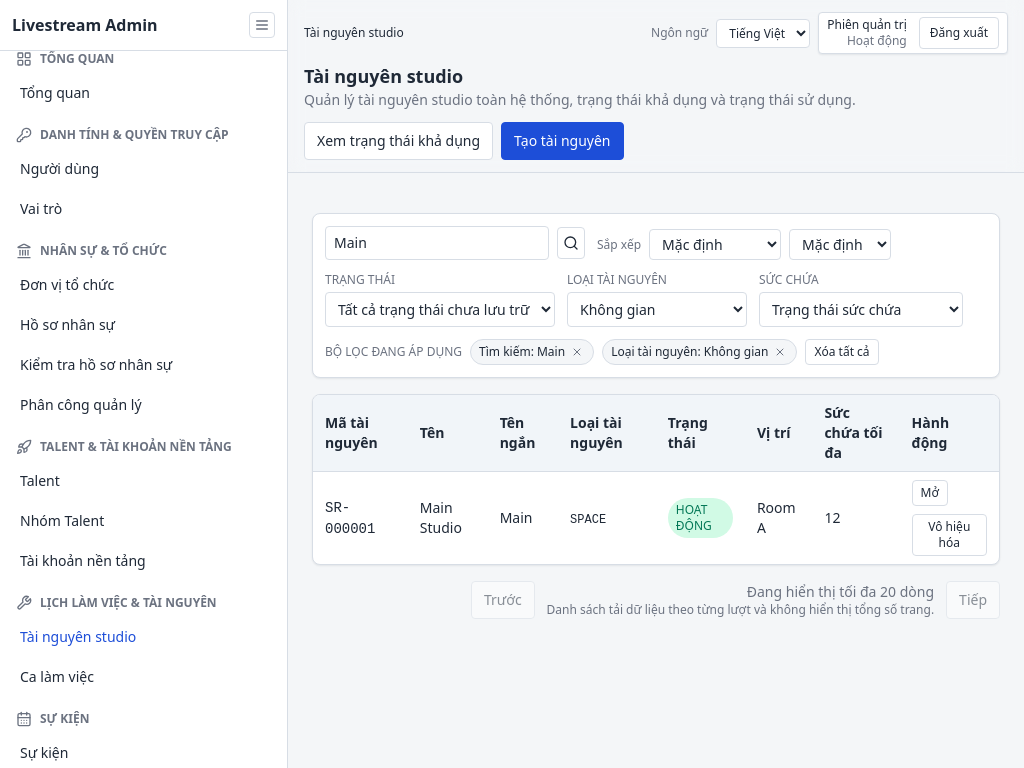
studio-resource wave 5 surfaces › renders query-driven list rows with applied chips and bounded cursor disclosure
Check: the heading "Tài nguyên studio" is shown, box x1=304 y1=64 x2=463 y2=88
Check: the text "SR-000001" is shown, box x1=325 y1=500 x2=375 y2=537
Click the button named "Xóa bộ lọc: Tìm kiếm". click: (577, 352)
box: x1=569 y1=344 x2=585 y2=360
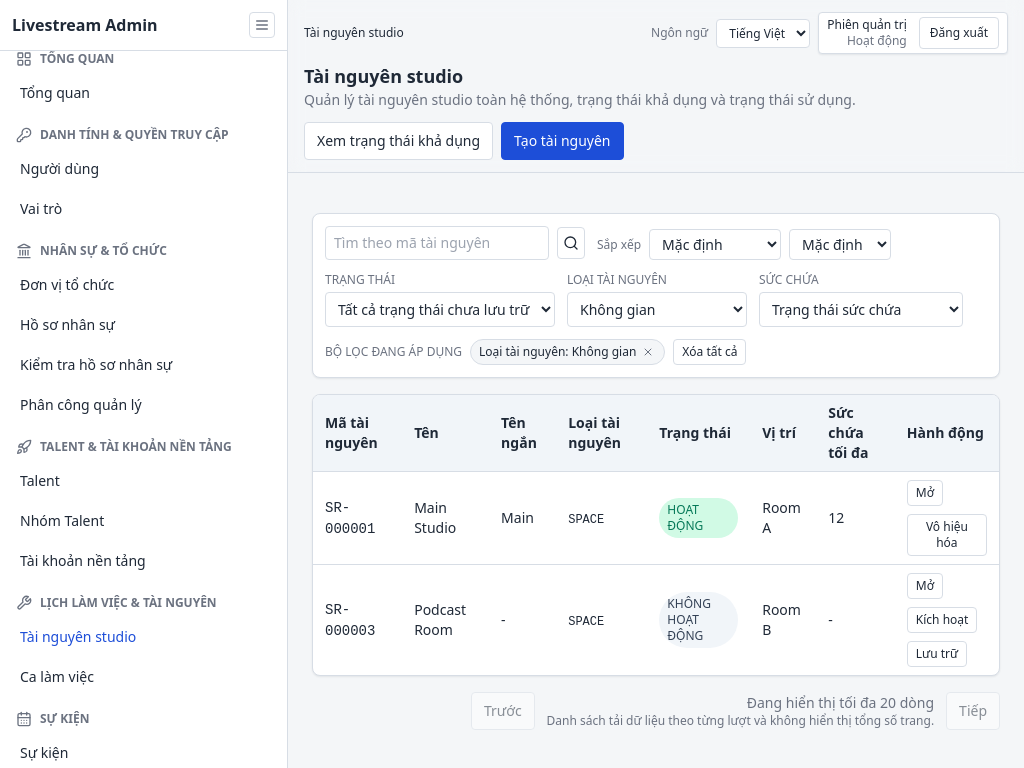
Click the button "Xóa tất cả". click: (710, 352)
box: x1=673 y1=339 x2=746 y2=365
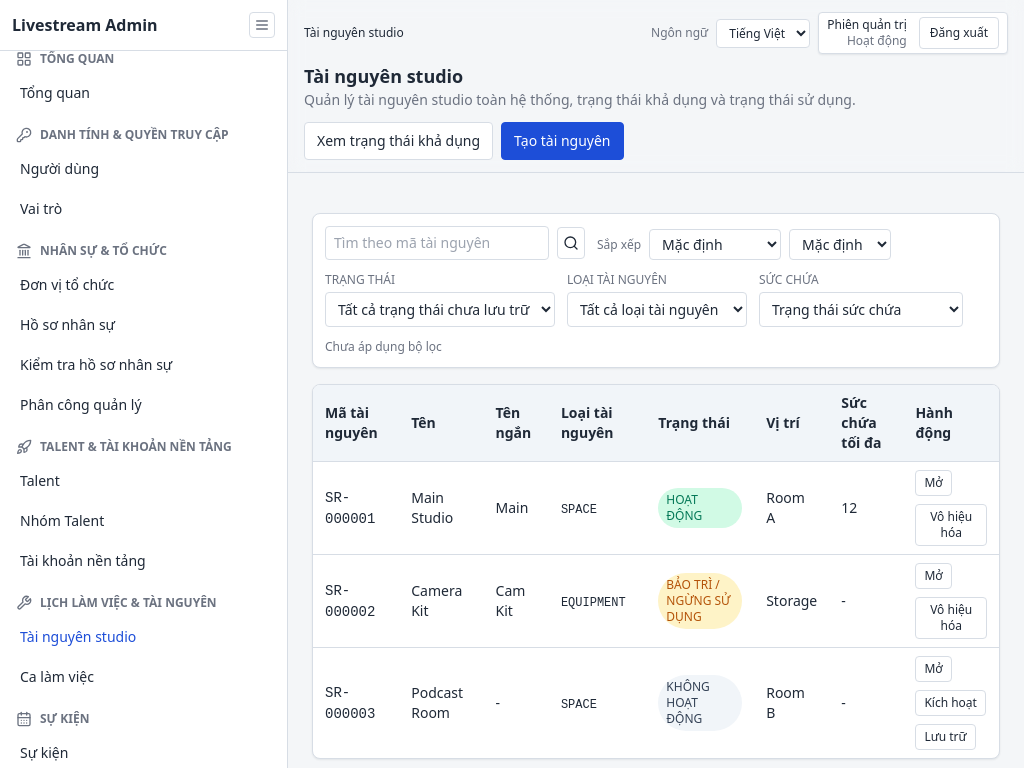
Check: the text "Chưa áp dụng bộ lọc" is shown, box x1=325 y1=338 x2=442 y2=355
